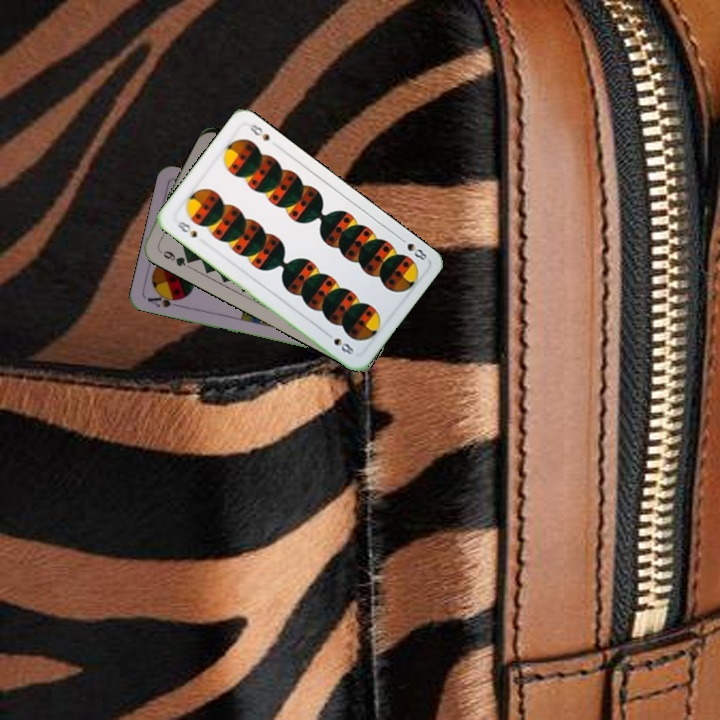G9: (155, 245, 195, 269)
S8: (395, 233, 429, 263), (173, 217, 200, 240)
SA: (143, 289, 184, 310)
